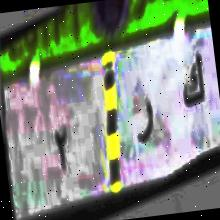2: (50, 120, 73, 178)
kaaf: (173, 44, 210, 116)
raa: (129, 88, 159, 156)
